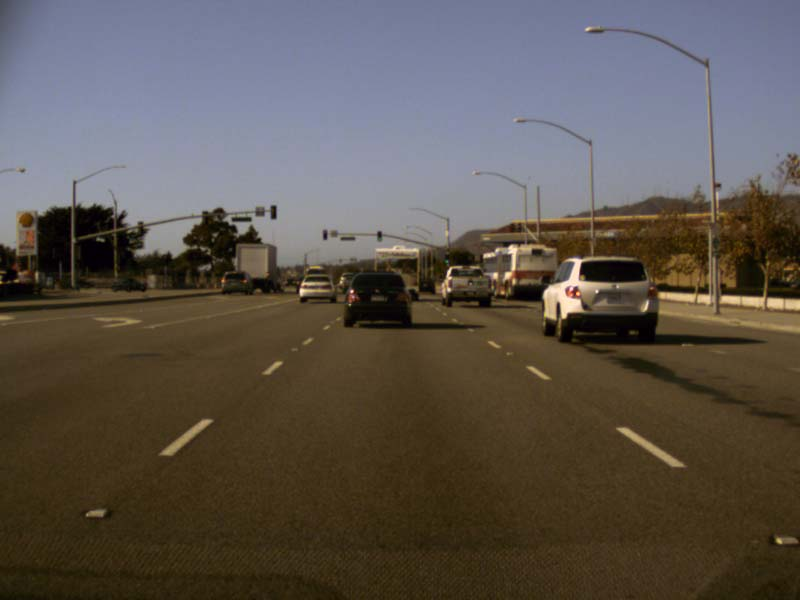Green: (376, 230, 382, 240), (444, 253, 449, 263)
Red: (322, 229, 327, 239)
